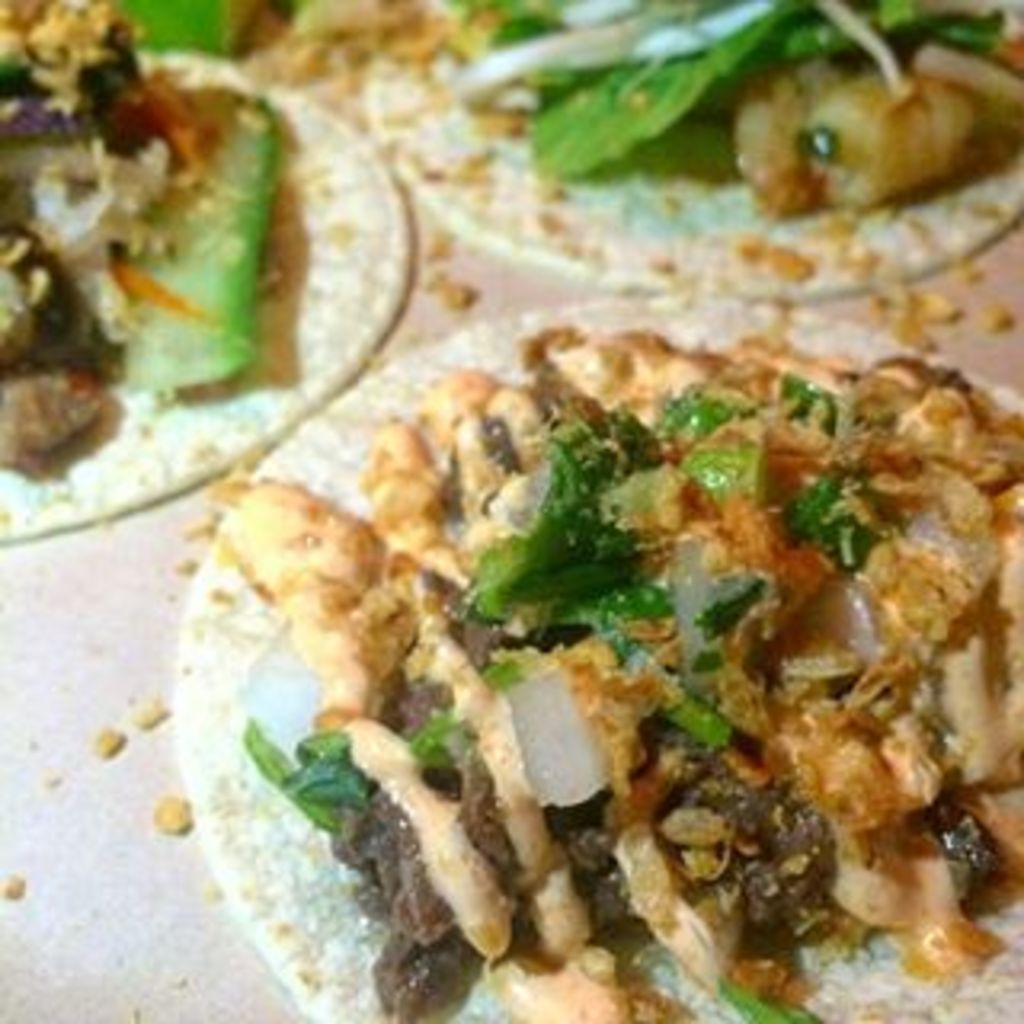taco: (186, 253, 1024, 1005), (387, 0, 1021, 323), (3, 58, 416, 534)
